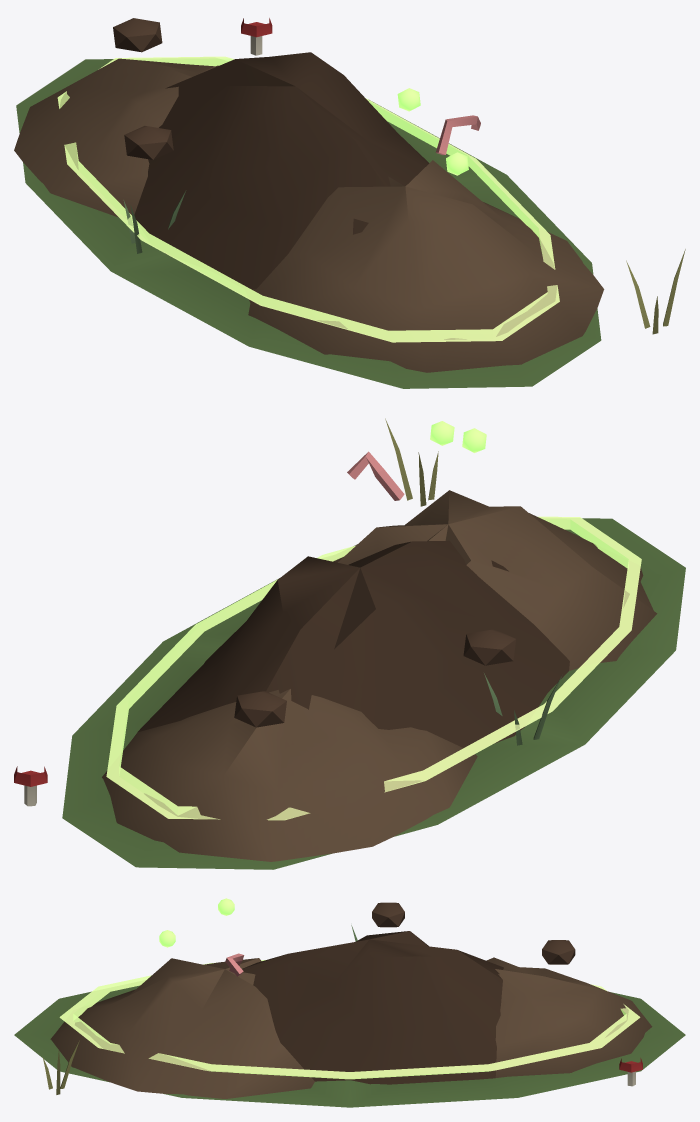
File: mound_soft.glb
3 views of the same model, one above another, from view 1: azimuth 30°, elevation 25°; view 2: azimuth 150°, elevation 25°; view 3: azimuth 270°, elevation 25° (orthographic). The views are drawn at different scales.
Parts seen in each view (by area): view 1: mound_soft, turned, glow; view 2: mound_soft, turned, glow; view 3: mound_soft, turned, glow.
Boxes of the visible parts, <box> form: mound_soft: <box>14,18,685,388</box>; turned: <box>113,18,480,289</box>; glow: <box>57,56,559,342</box>; mound_soft: <box>14,418,685,869</box>; turned: <box>138,451,569,747</box>; glow: <box>106,421,641,820</box>; mound_soft: <box>14,925,685,1107</box>; turned: <box>225,902,575,1084</box>; glow: <box>59,898,640,1079</box>.
Bounding box in the file's own units: 0.88 × 0.405 × 1.72.
